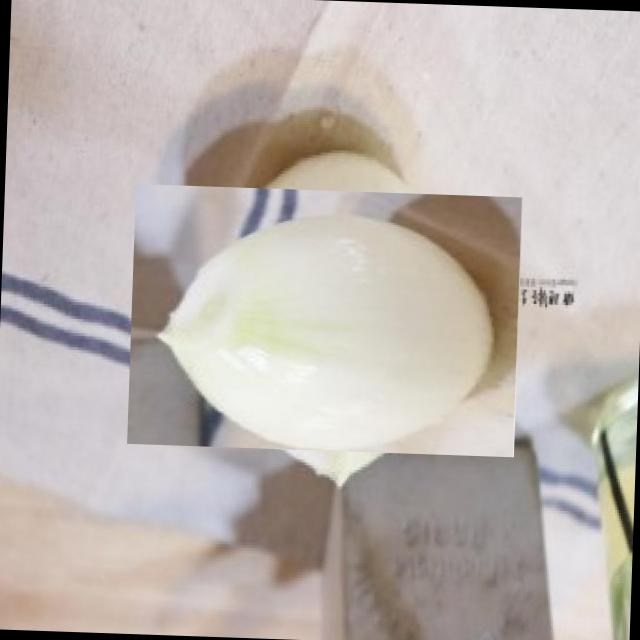Onion: (156, 152, 492, 487)
